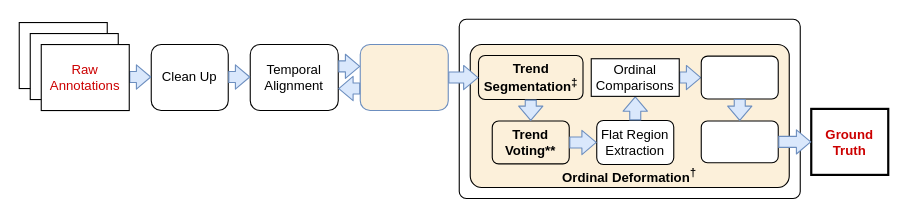
Some shapes in this 909 by 218 pixel diagram are drawn without their labels. The shapes that lost their labels are listed below. From the top down, each one's box as (x1, y1, x2, y2) in pixels, then its label:
(359, 43, 448, 111): Annotation Selection*
(700, 55, 778, 99): Ordinal Embedding
(458, 18, 800, 199): Annotation Fusion
(700, 120, 778, 163): Signal Deforming
